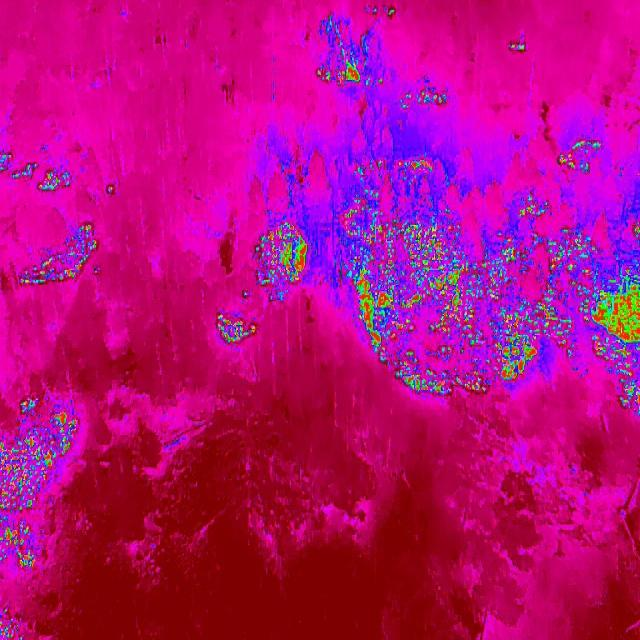fire: (332, 148, 581, 412), (0, 392, 85, 582), (580, 216, 640, 420), (15, 216, 111, 296), (248, 210, 312, 308), (314, 36, 388, 96), (0, 144, 78, 198), (396, 80, 451, 120), (552, 134, 603, 177), (214, 302, 258, 347), (0, 607, 32, 640), (502, 36, 530, 56), (376, 4, 402, 23), (102, 176, 118, 198)
